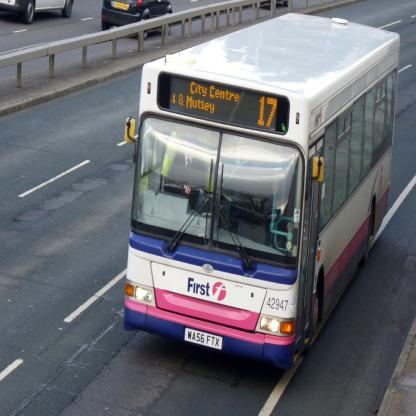Bus: (123, 9, 394, 374)
Car: (102, 0, 173, 39), (0, 0, 74, 25)
